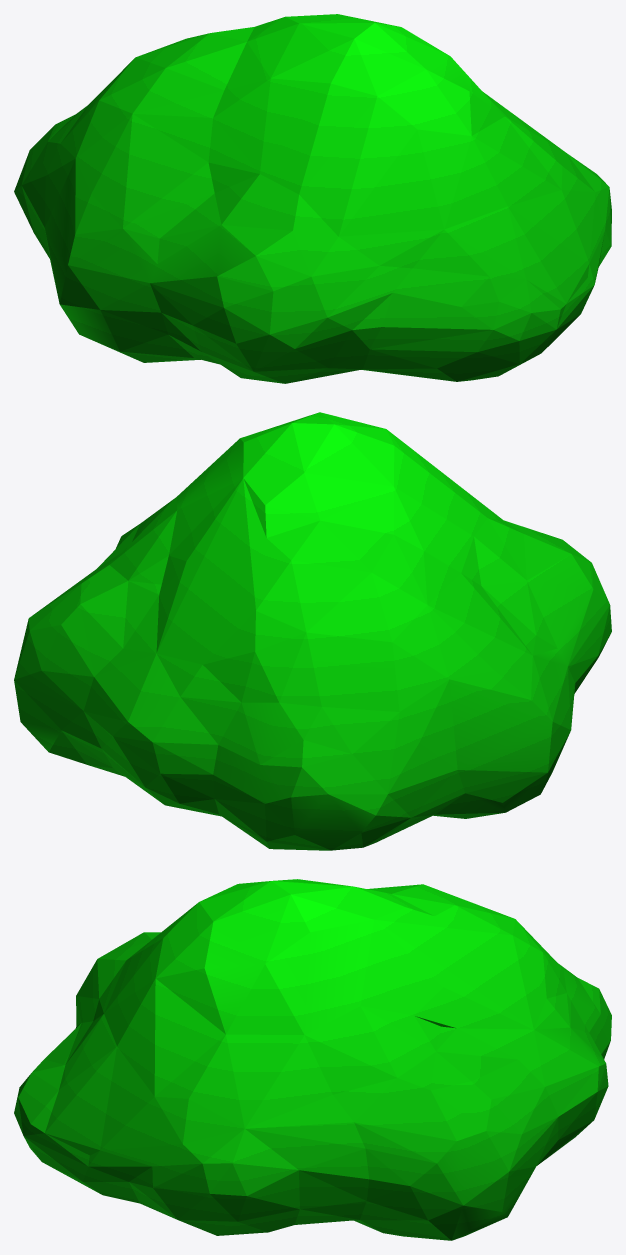
The model's file is Prefab_Foliage_Tree_Oak_Leaves_A.glb.
3 views of the same model, one above another, from view 1: azimuth 30°, elevation 25°; view 2: azimuth 150°, elevation 25°; view 3: azimuth 270°, elevation 25° (orthographic). The views are drawn at different scales.
Parts seen in each view (by area): view 1: OakTree_B_Trunk.002; view 2: OakTree_B_Trunk.002; view 3: OakTree_B_Trunk.002.
Boxes of the visible parts, x1,y1,x2,y2 form: OakTree_B_Trunk.002: (14,14,611,383); OakTree_B_Trunk.002: (14,412,611,850); OakTree_B_Trunk.002: (14,879,611,1240).
Size of the model in its own units: 18.52 by 11.24 by 20.26.
Materials: 1 (1 with a texture image).
